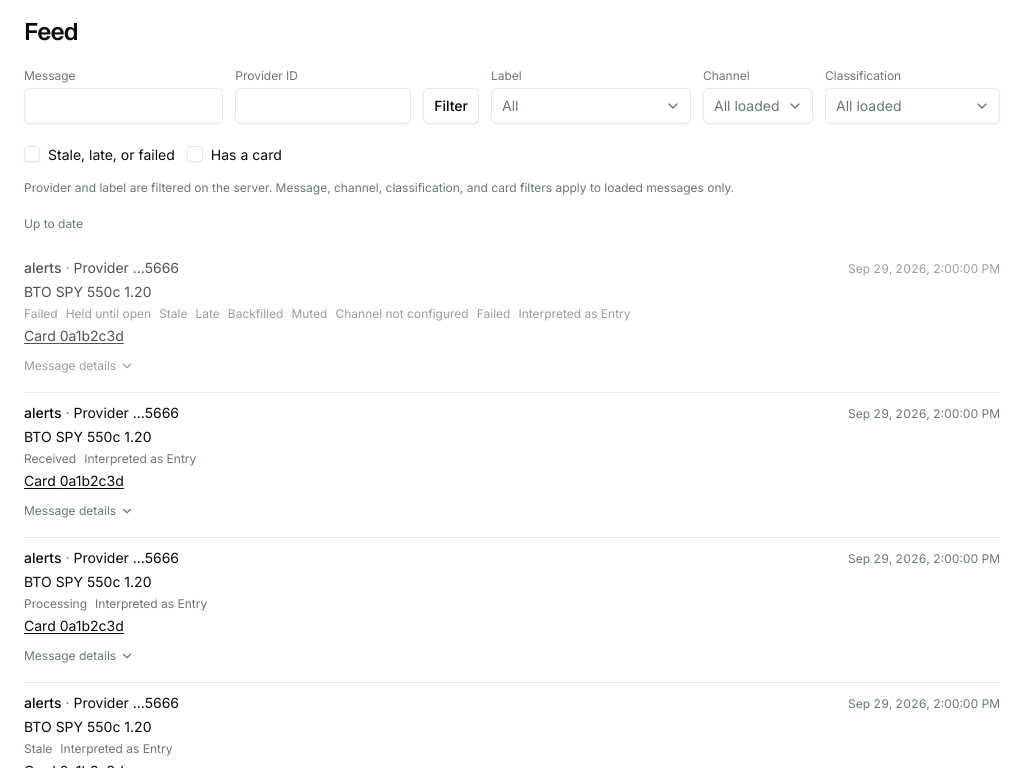
Test case: feed item › shows every label and status as text, plus type, author and time in local zone with ET title
Expected: the list item "Held until open" is shown, [66, 306, 151, 322]
Expected: the number of list items "Failed" is 2, [24, 306, 58, 322]; [477, 306, 510, 322]
Click the button "Message details" below "Held until open" at (79, 366), box [24, 350, 134, 382]
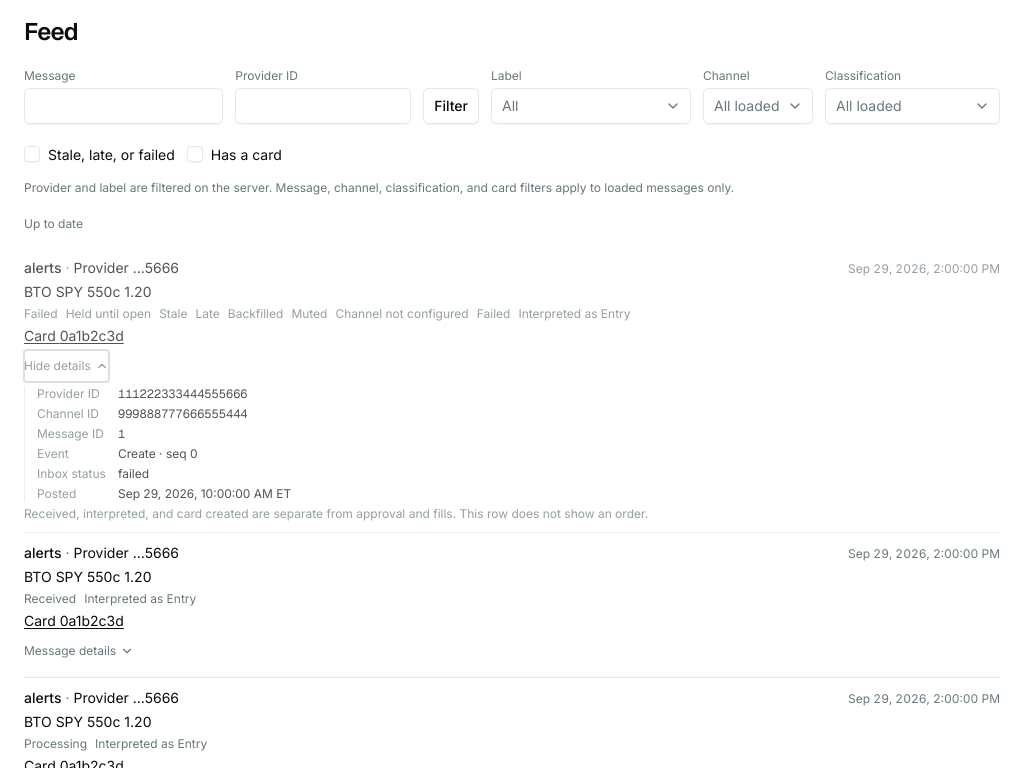
Expected: the text "111222333444555666" is shown, [118, 386, 248, 402]
